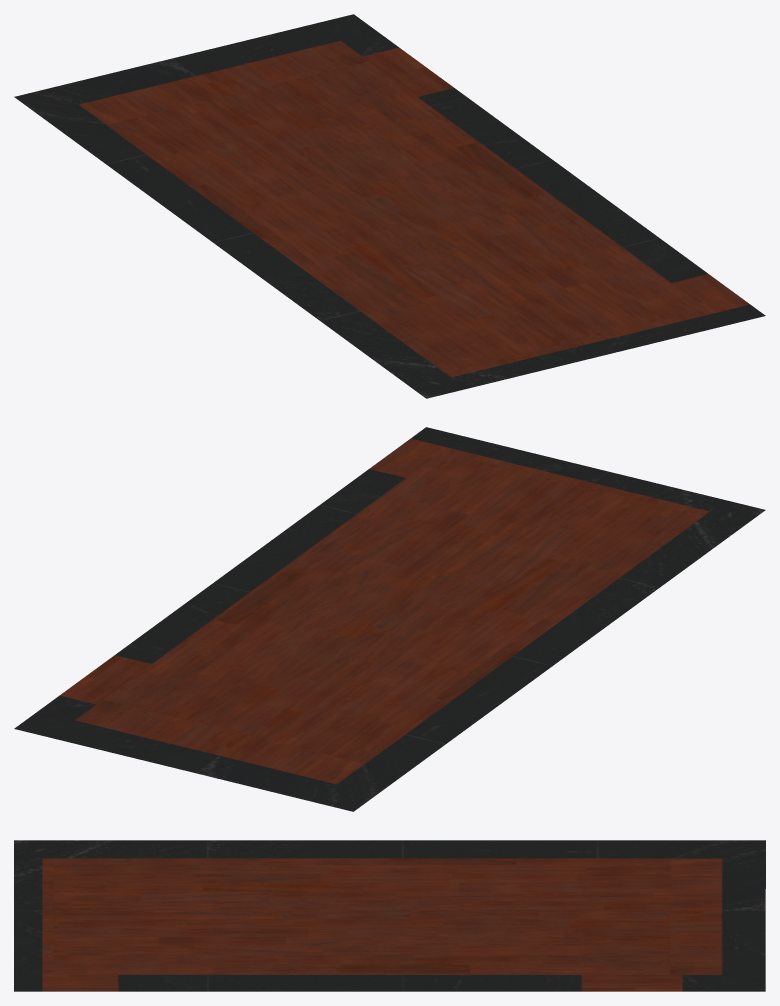
The model's file is Dome floor.fbx.
3 views of the same model, one above another, from view 1: azimuth 30°, elevation 25°; view 2: azimuth 150°, elevation 25°; view 3: azimuth 270°, elevation 25° (orthographic). The views are drawn at different scales.
Parts seen in each view (by area): view 1: floor1; view 2: floor1; view 3: floor1.
Part boxes in pixels (bbox=[...]): floor1: bbox=[14, 14, 765, 398]; floor1: bbox=[14, 427, 765, 811]; floor1: bbox=[14, 840, 765, 991].
Size of the model in its own units: 1850 by 2.74e-06 by 3891.
1 material, 1 textured.
